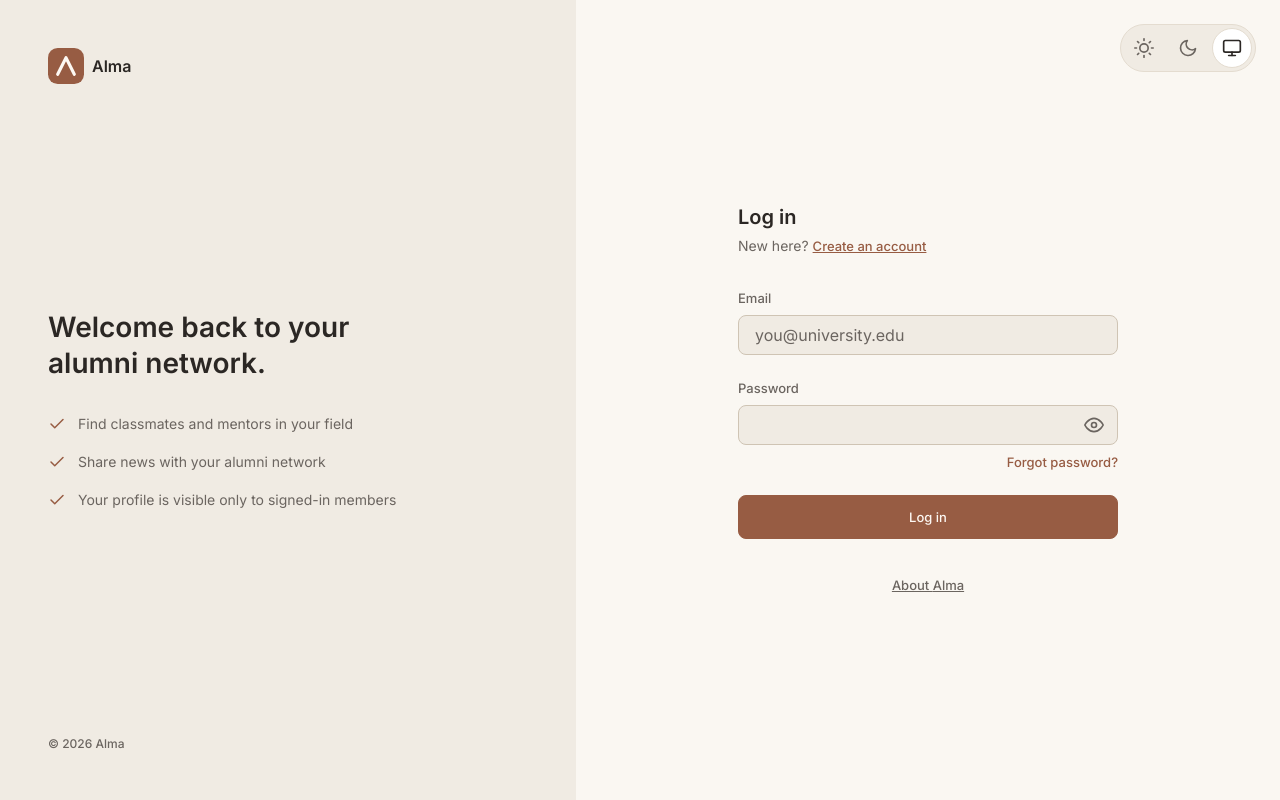
Test case: Directory route › sends a guest to /login, then back to /directory after logging in
The width and height of the screenshot is (1280, 800).
In the field labelled "Email": (928, 335) [738,315,1118,355], type "amina@example.com"
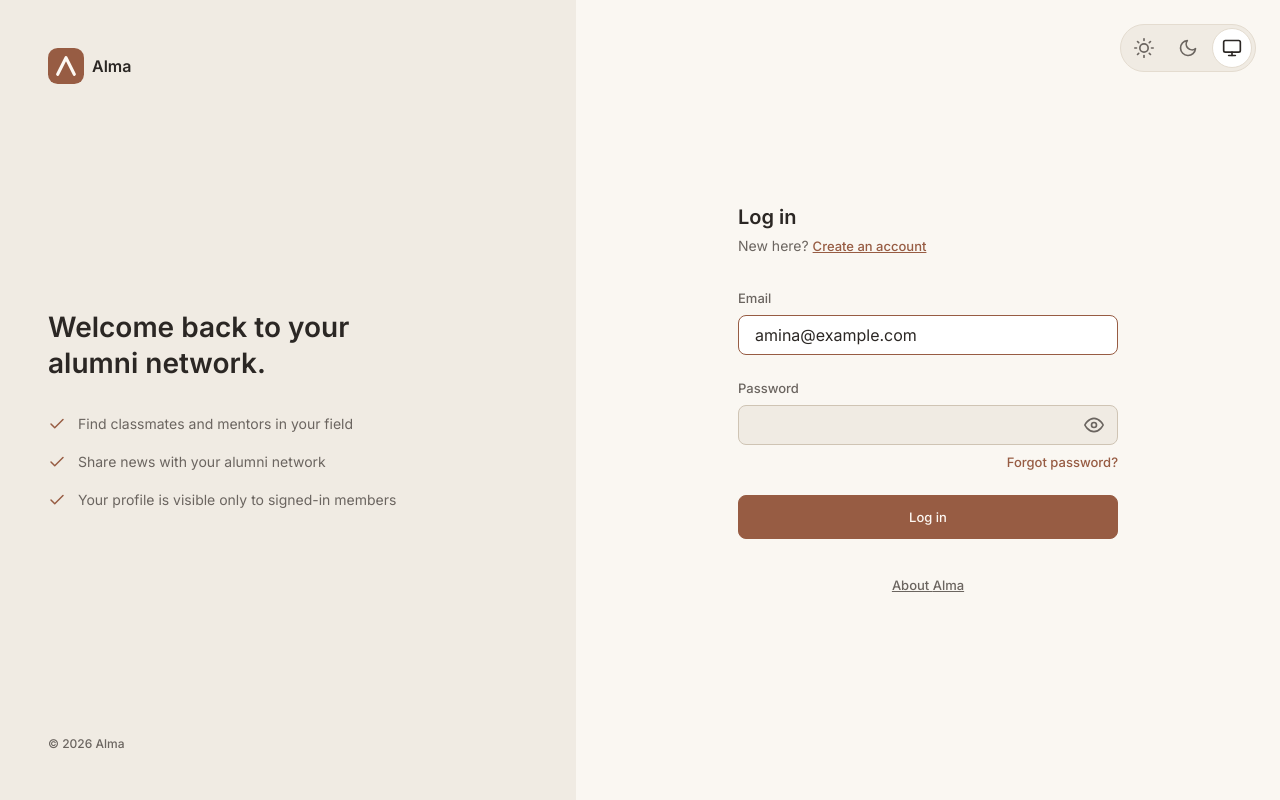
In the password field labelled "Password": (928, 425) [738,405,1118,445], type "correct-horse"
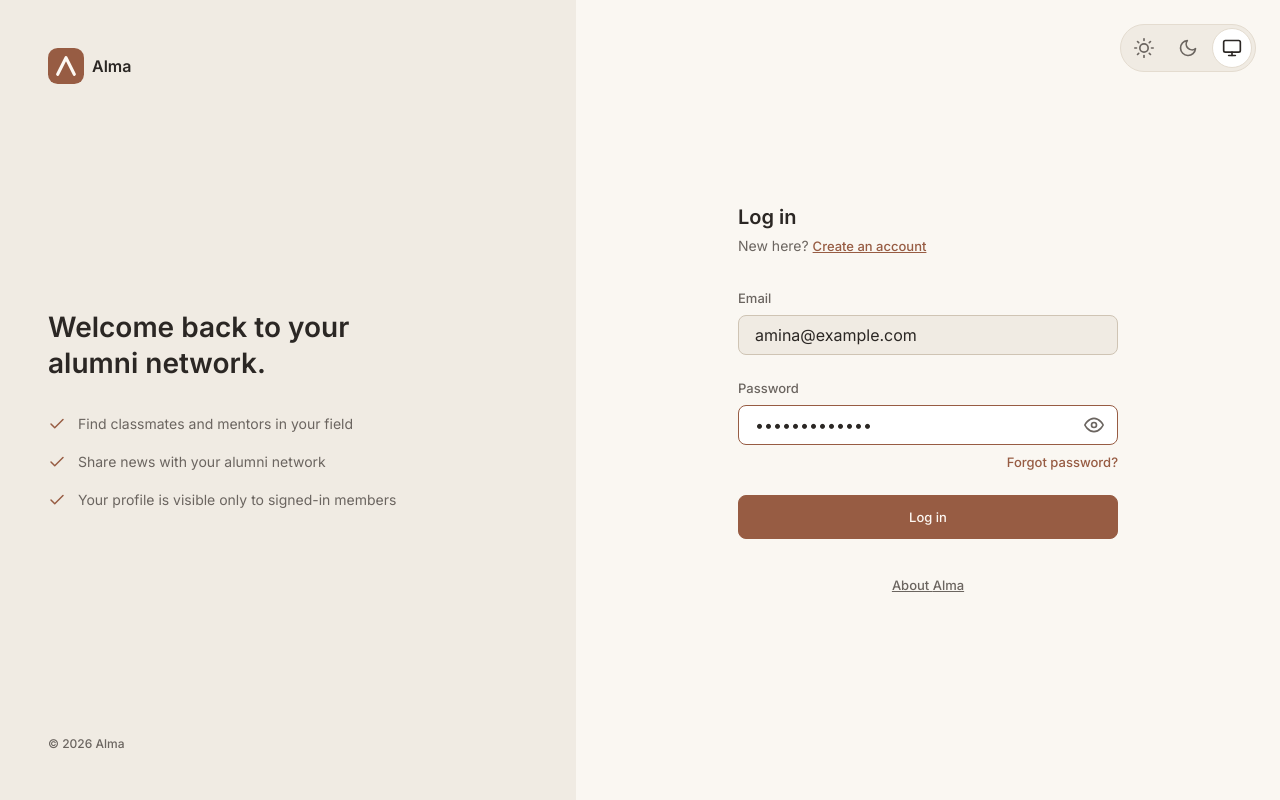
Click the button "Log in": (928, 517) [738,495,1118,539]
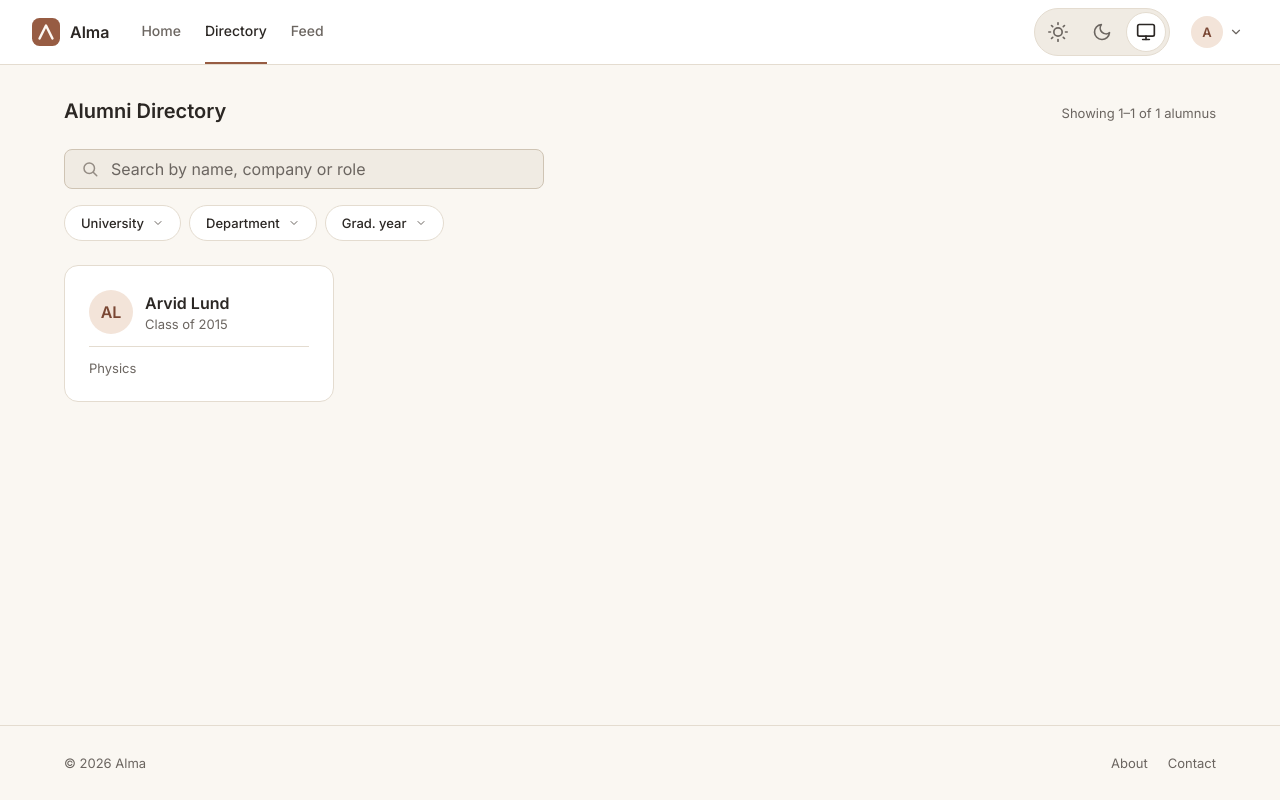
Result: the heading "Alumni Directory" is shown at [64,97,226,125]
